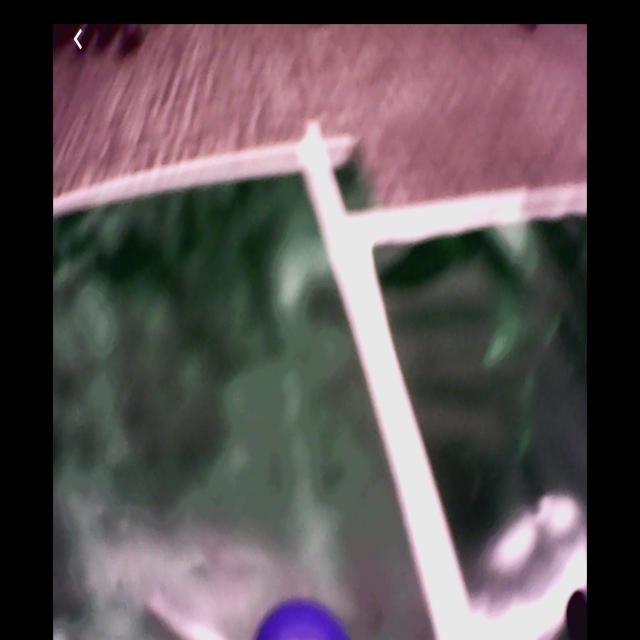ball: (256, 599, 350, 640)
